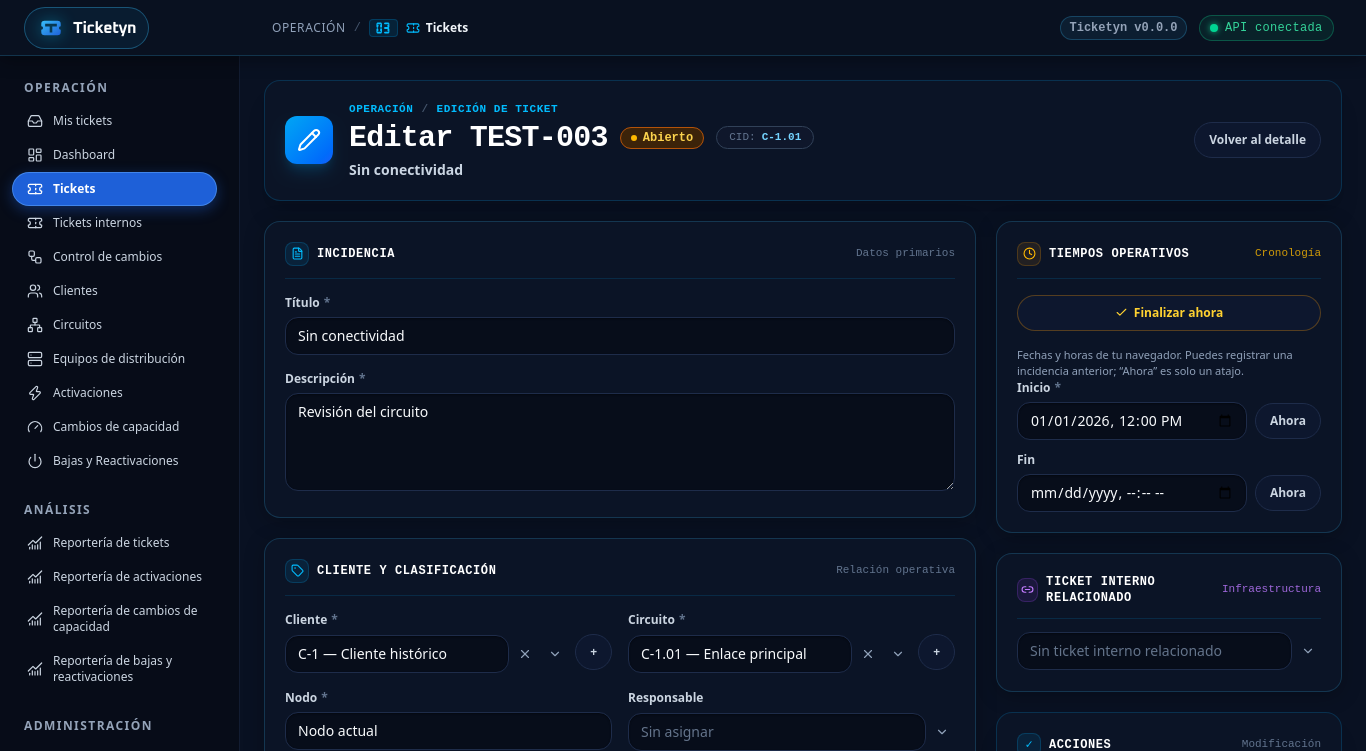
Test case: edición de tickets › bloquea Fin anterior a Inicio sin PATCH
Type "2020-01-01T00:00" into the field labelled "Fin".
click(1132, 492); type("2020-01-01T00:00")  # box [1017, 474, 1247, 512]
(page scrolled)
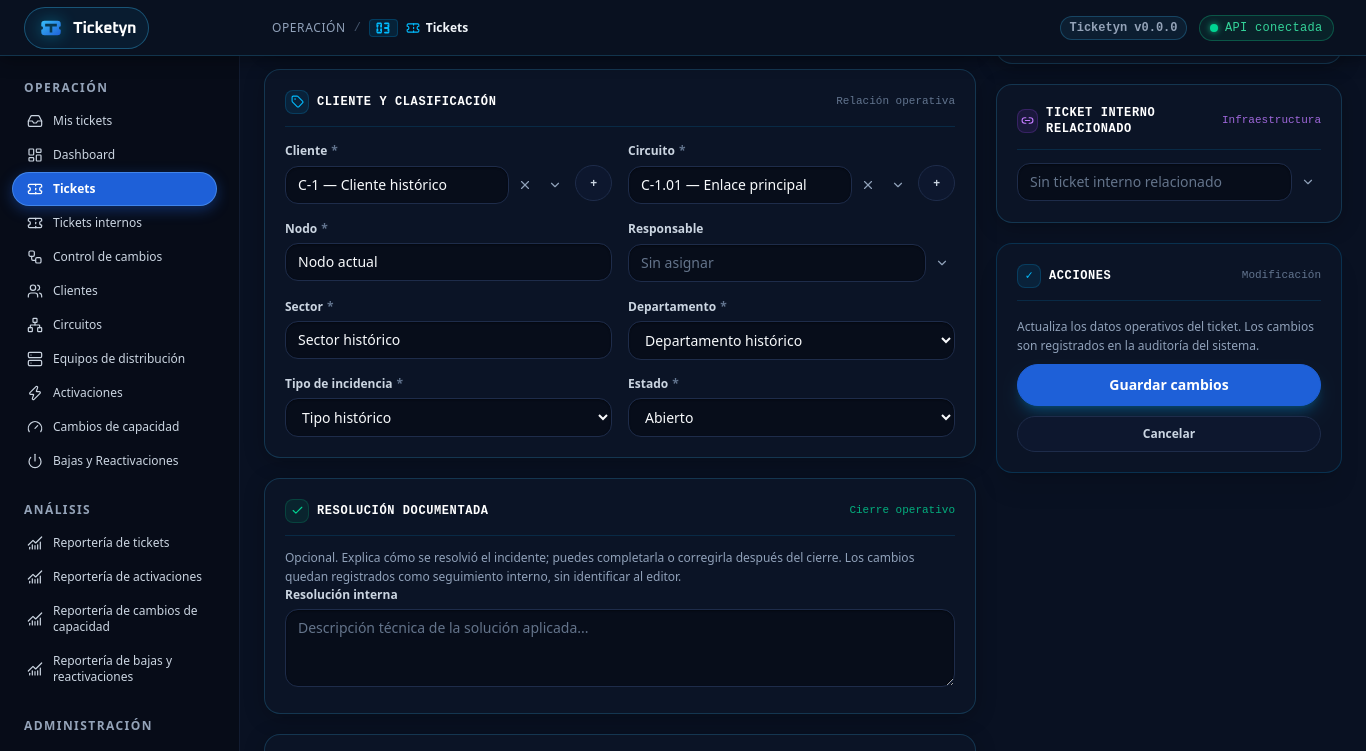
Click the button "Guardar cambios".
click(1169, 384)  # box [1017, 364, 1321, 406]
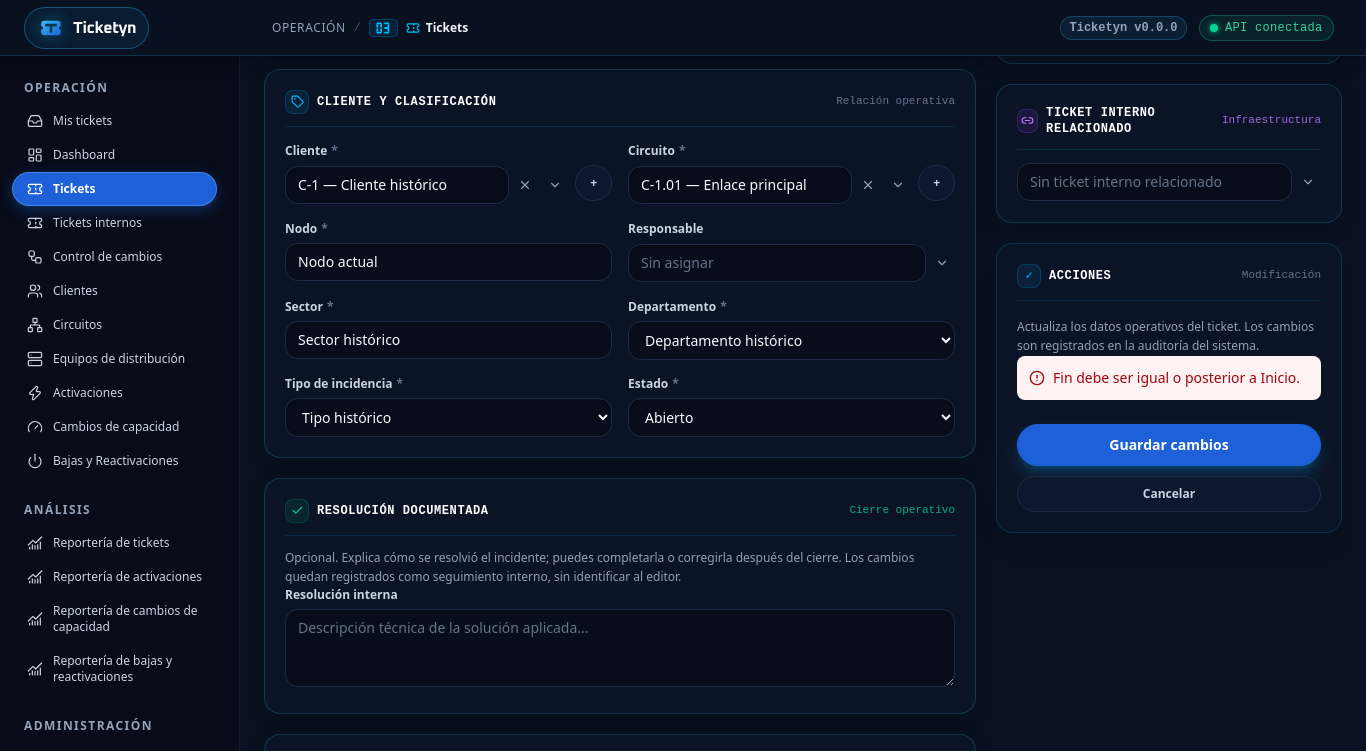
Check: the message "Fin debe ser igual o posterior a Inicio." is shown, box [1017, 356, 1321, 400]
